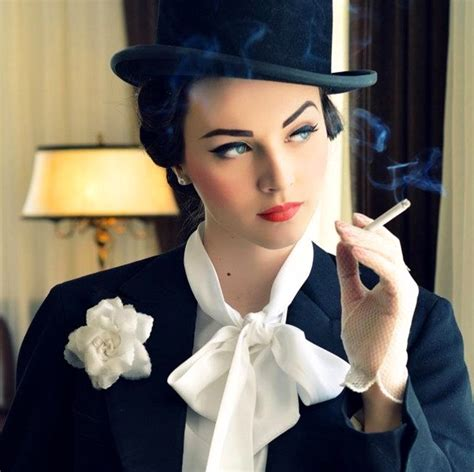cigarette: (359, 198, 413, 232)
